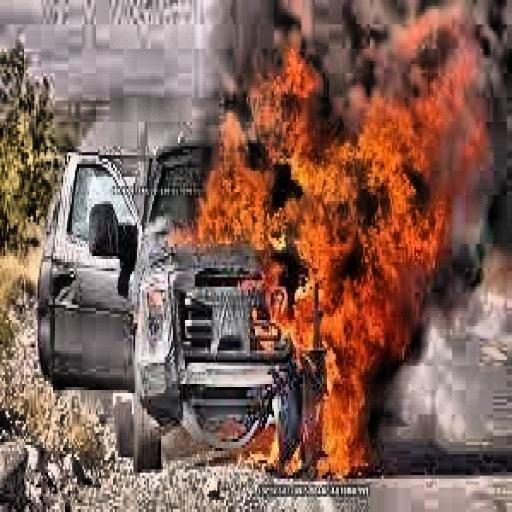fire: (183, 28, 469, 476)
